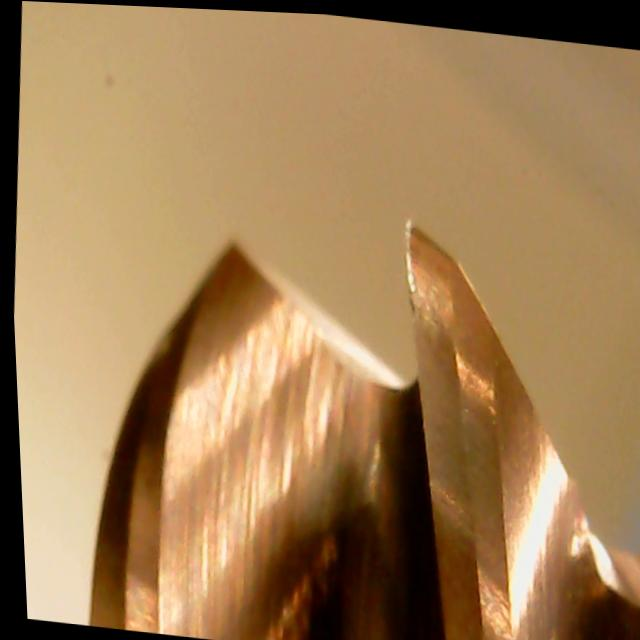Tool-wear-class-0: (378, 211, 514, 544)
